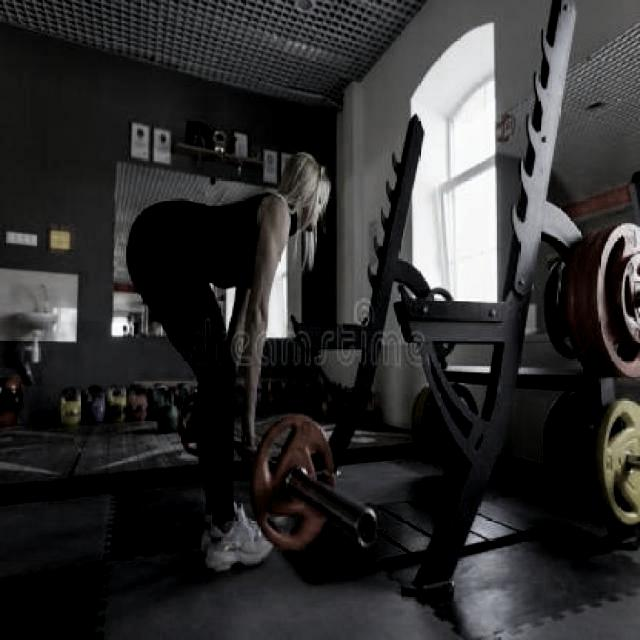barbell: (248, 410, 342, 557)
